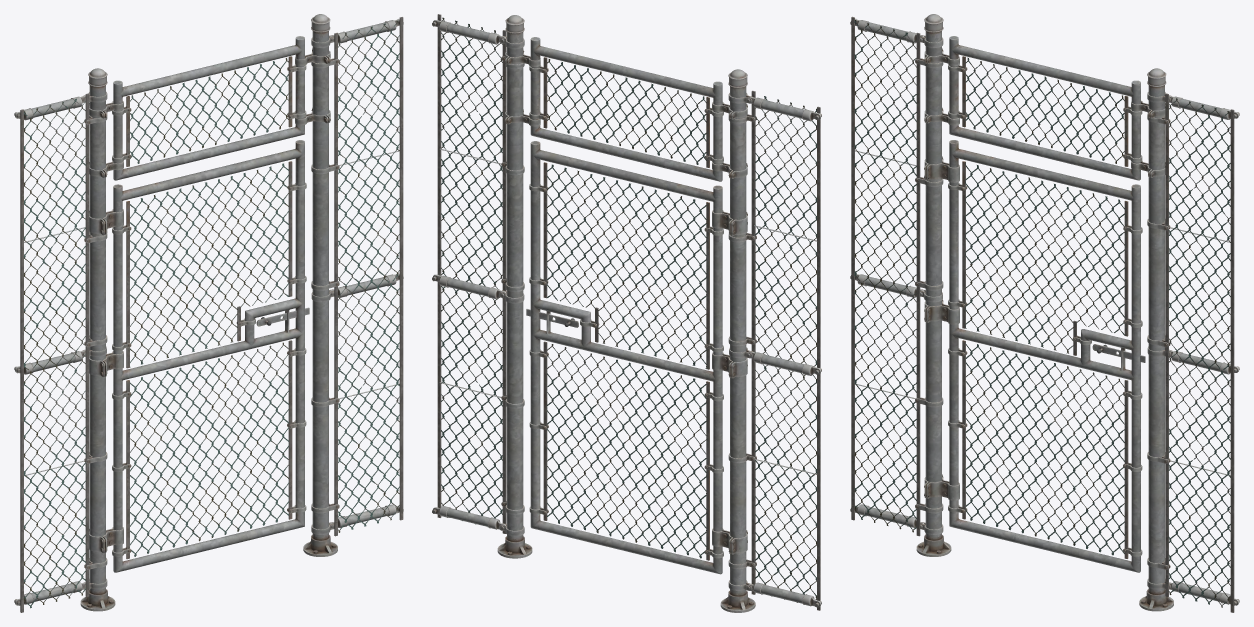
Rendered from fence-gate.glb.
The picture shows the model from 3 angles, left to right: view 1: azimuth 30°, elevation 25°; view 2: azimuth 150°, elevation 25°; view 3: azimuth 330°, elevation 25°; orthographic projection.
Parts seen in each view (by area): view 1: modular_chainlink_fence_door_latch, modular_chainlink_fence_door_gate; view 2: modular_chainlink_fence_door_latch, modular_chainlink_fence_door_gate; view 3: modular_chainlink_fence_door_latch, modular_chainlink_fence_door_gate.
Boxes of the visible parts, box(x1,y1,x2,y2) form: modular_chainlink_fence_door_latch: box(14, 14, 403, 612); modular_chainlink_fence_door_gate: box(24, 20, 399, 608); modular_chainlink_fence_door_latch: box(432, 14, 821, 612); modular_chainlink_fence_door_gate: box(441, 17, 816, 602); modular_chainlink_fence_door_latch: box(850, 14, 1239, 612); modular_chainlink_fence_door_gate: box(854, 20, 1230, 607).
Bounding box in the file's own units: 1.91 × 2.52 × 0.1481.
Materials: 2 (2 with a texture image).
